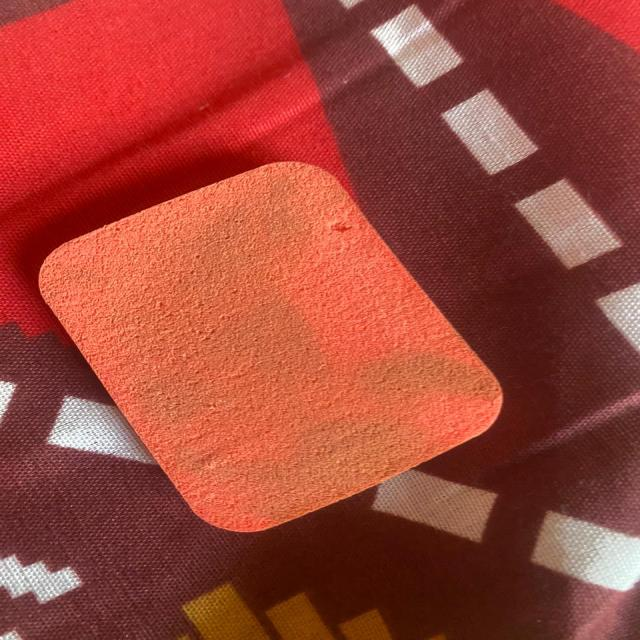beauty blender: (34, 146, 525, 558)
